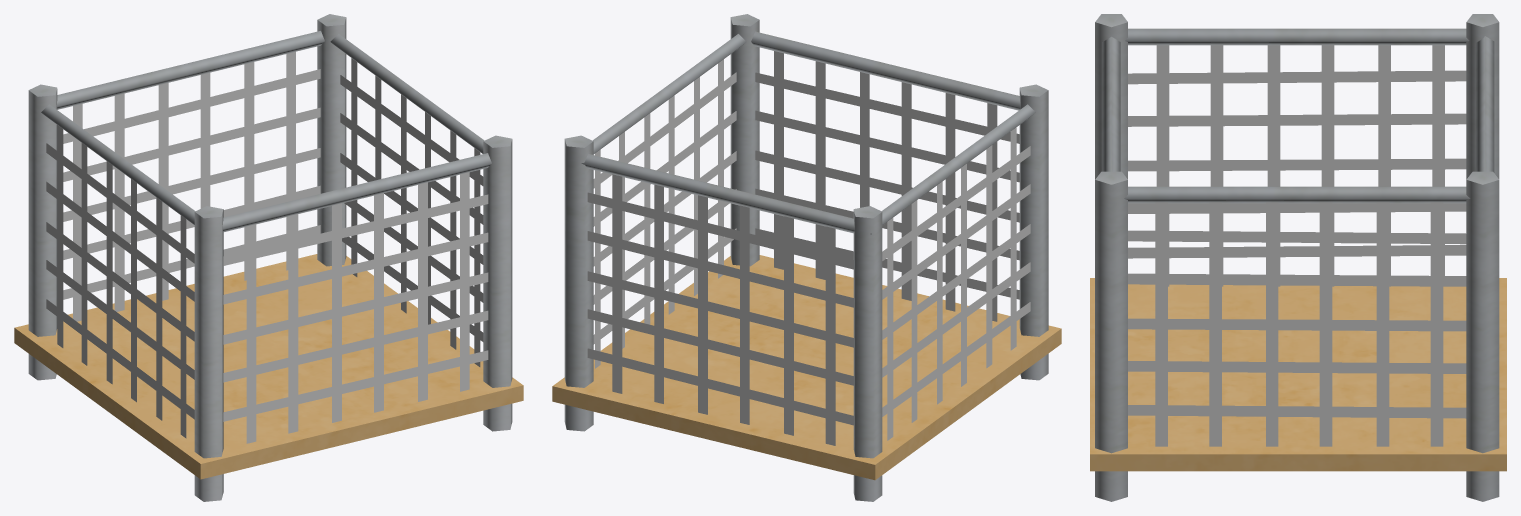
The model's file is Ball_Box_01.FBX.
The picture shows the model from 3 angles, left to right: view 1: azimuth 30°, elevation 25°; view 2: azimuth 150°, elevation 25°; view 3: azimuth 270°, elevation 25°; orthographic projection. The views are drawn at different scales.
Parts seen in each view (by area): view 1: Ball_Box_01; view 2: Ball_Box_01; view 3: Ball_Box_01.
Part boxes in pixels (x1,y1,x2,y2): Ball_Box_01: (14,14,523,501); Ball_Box_01: (552,14,1061,501); Ball_Box_01: (1090,14,1506,501).
Size of the model in its own units: 0.9654 by 0.9654 by 0.8107.
